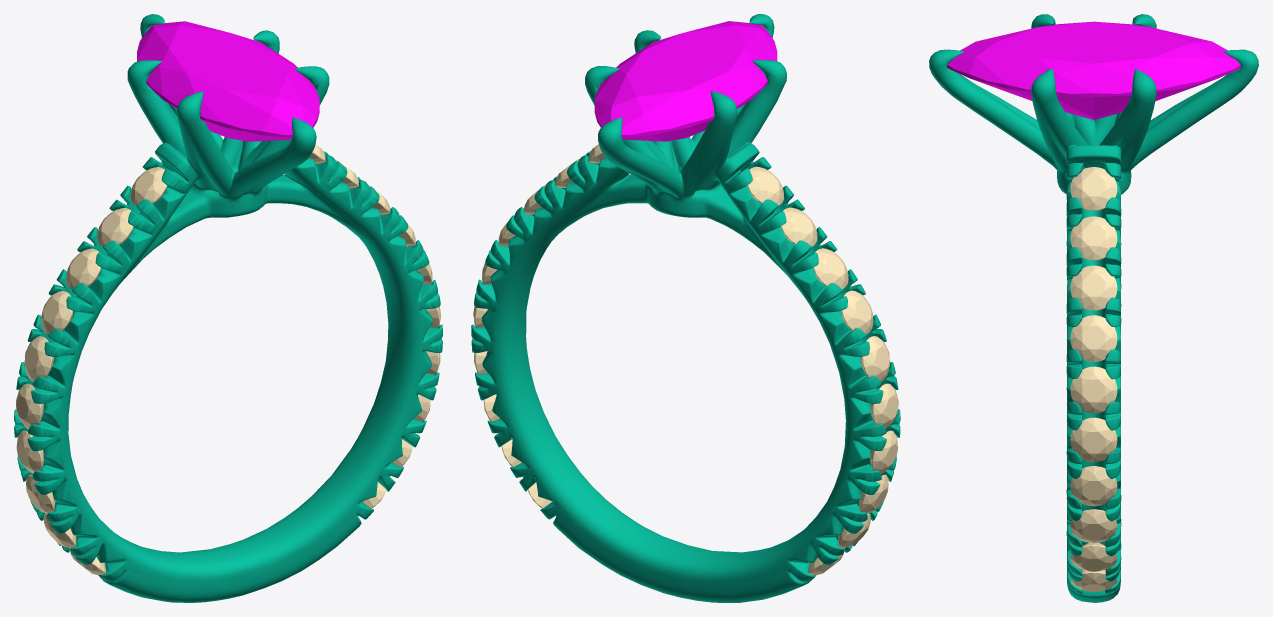
Rendered from BE1D7061_MQ_200ct_RENDER.glb.
3 views of the same model, side by side, from view 1: azimuth 30°, elevation 25°; view 2: azimuth 150°, elevation 25°; view 3: azimuth 270°, elevation 25° (orthographic).
Visible parts, largest first — view 1: Metal 01, CS_Diamond_Marquise, Diamond_Round_Gem_SH.017, Diamond_Round_Gem_SH.016, Diamond_Round_Gem_SH.018, Diamond_Round_Gem_SH.019, Diamond_Round_Gem_SH.015, Diamond_Round_Gem_SH.014, Diamond_Round_Gem_SH.013, Diamond_Round_Gem_SH.012; view 2: Metal 01, CS_Diamond_Marquise, Diamond_Round_Gem_SH.017, Diamond_Round_Gem_SH.016, Diamond_Round_Gem_SH.018, Diamond_Round_Gem_SH.019, Diamond_Round_Gem_SH.015, Diamond_Round_Gem_SH.014, Diamond_Round_Gem_SH.013, Diamond_Round_Gem_SH.012; view 3: Metal 01, CS_Diamond_Marquise, Diamond_Round_Gem_SH.003, Diamond_Round_Gem_SH.004, Diamond_Round_Gem_SH.002, Diamond_Round_Gem_SH.005, Diamond_Round_Gem_SH.001, Diamond_Round_Gem_SH, Diamond_Round_Gem_SH.006, Diamond_Round_Gem_SH.007, Diamond_Round_Gem_SH.008, Diamond_Round_Gem_SH.009.
Boxes of the visible parts, x1,y1,x2,y2 form: Metal 01: (14,14,442,602); CS_Diamond_Marquise: (137,21,319,141); Diamond_Round_Gem_SH.017: (66,248,100,289); Diamond_Round_Gem_SH.016: (41,290,72,334); Diamond_Round_Gem_SH.018: (97,208,133,246); Diamond_Round_Gem_SH.019: (130,167,166,205); Diamond_Round_Gem_SH.015: (24,336,53,381); Diamond_Round_Gem_SH.014: (16,383,43,428); Diamond_Round_Gem_SH.013: (16,430,44,473); Diamond_Round_Gem_SH.012: (26,474,55,513); Metal 01: (471,14,900,602); CS_Diamond_Marquise: (594,21,777,141); Diamond_Round_Gem_SH.017: (813,248,848,289); Diamond_Round_Gem_SH.016: (841,290,873,334); Diamond_Round_Gem_SH.018: (781,207,817,246); Diamond_Round_Gem_SH.019: (747,166,783,205); Diamond_Round_Gem_SH.015: (860,336,889,381); Diamond_Round_Gem_SH.014: (870,383,898,428); Diamond_Round_Gem_SH.013: (870,430,897,473); Diamond_Round_Gem_SH.012: (859,474,888,513); Metal 01: (929,14,1258,602); CS_Diamond_Marquise: (946,21,1241,119); Diamond_Round_Gem_SH.003: (1070,315,1117,361); Diamond_Round_Gem_SH.004: (1070,366,1117,413); Diamond_Round_Gem_SH.002: (1070,265,1117,310); Diamond_Round_Gem_SH.005: (1070,417,1117,462); Diamond_Round_Gem_SH.001: (1070,216,1117,260); Diamond_Round_Gem_SH: (1070,167,1117,210); Diamond_Round_Gem_SH.006: (1070,466,1117,506); Diamond_Round_Gem_SH.007: (1070,509,1117,543); Diamond_Round_Gem_SH.008: (1070,542,1117,571); Diamond_Round_Gem_SH.009: (1070,570,1117,591).
Bounding box in the file's own units: 20.55 × 25.23 × 14.04.
